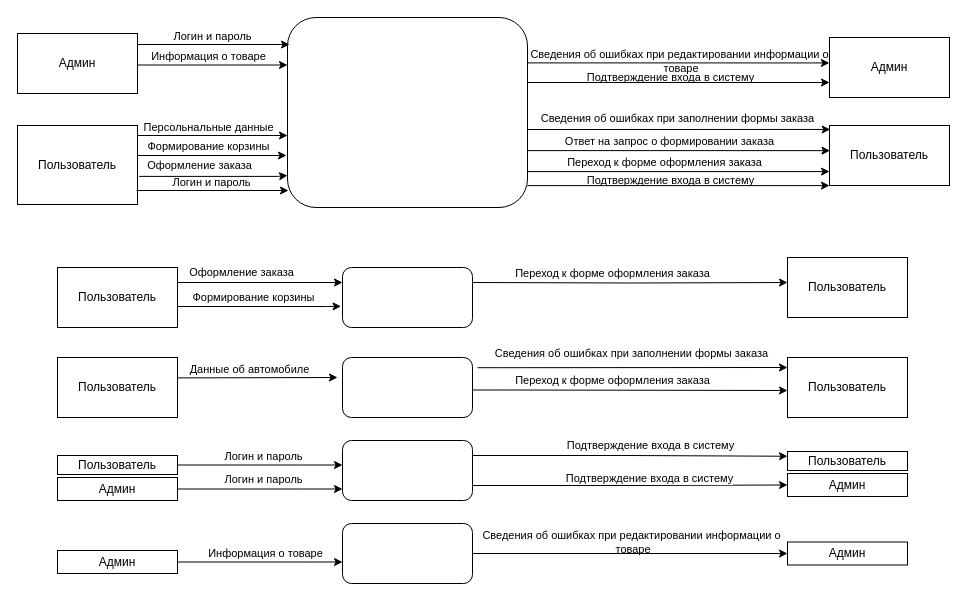
Some shapes in this 967 by 601 pixel diagram are drawn without their labels. Here are the shapes that lost their labels. From the top down, the centre of each, then its label:
At [407,112]: "Интернет-магазин".
At [407,297]: "Корзина".
At [407,387]: "Форма оформления заказа".
At [407,470]: "Форма входа".
At [407,553]: "Админ-панель".
